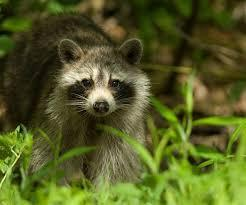raccoon: (0, 3, 166, 195)
